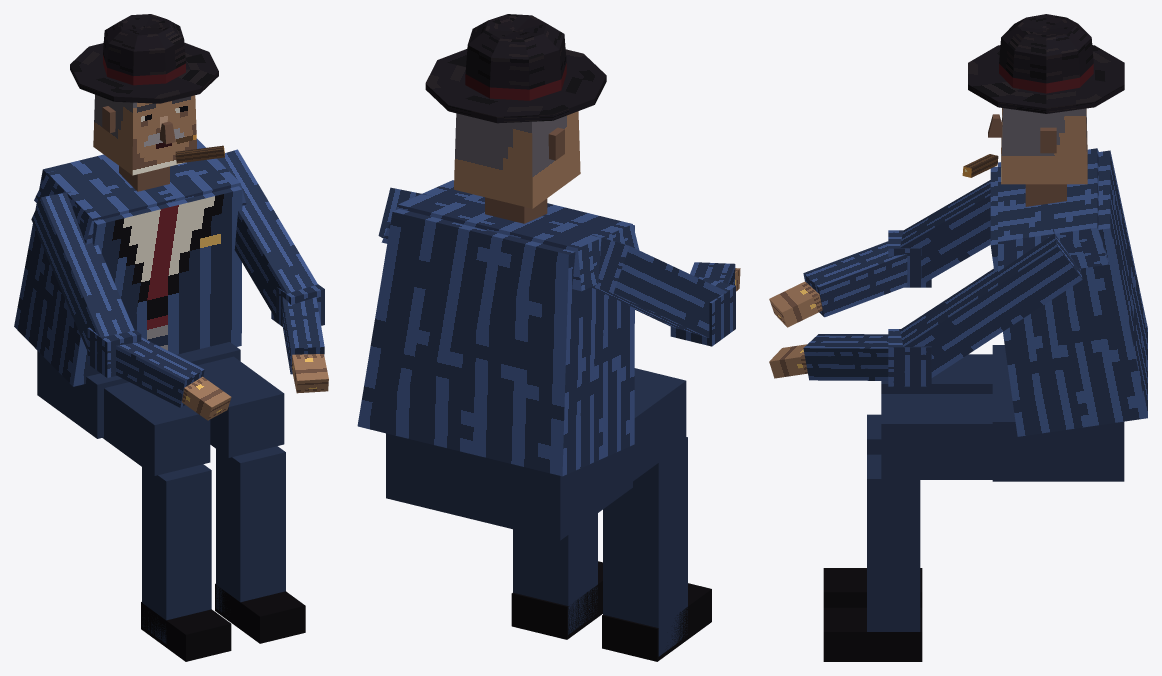
File: boss.glb
3 renders of one model, left to right at view 1: azimuth 30°, elevation 25°; view 2: azimuth 150°, elevation 25°; view 3: azimuth 270°, elevation 25°, orthographic. The views are drawn at different scales.
Visible parts, largest first — view 1: Body, Head, UpperArmR, ForeArmR; view 2: Body, Head, UpperArmR, ForeArmR; view 3: Body, Head, ForeArmR, UpperArmR.
Boxes of the visible parts, box(x1,y1,x2,y2) form: Body: box(14, 138, 328, 661); Head: box(70, 14, 224, 175); UpperArmR: box(31, 190, 141, 377); ForeArmR: box(116, 337, 231, 420); Body: box(357, 180, 711, 661); Head: box(425, 14, 606, 208); UpperArmR: box(591, 235, 735, 346); ForeArmR: box(690, 262, 740, 291); Body: box(769, 148, 1147, 661); Head: box(962, 14, 1124, 184); ForeArmR: box(769, 241, 907, 327); UpperArmR: box(888, 180, 990, 287).
Bounding box in the file's own units: 0.6722 × 1.62 × 0.9194.
Materials: 1 (1 with a texture image).
